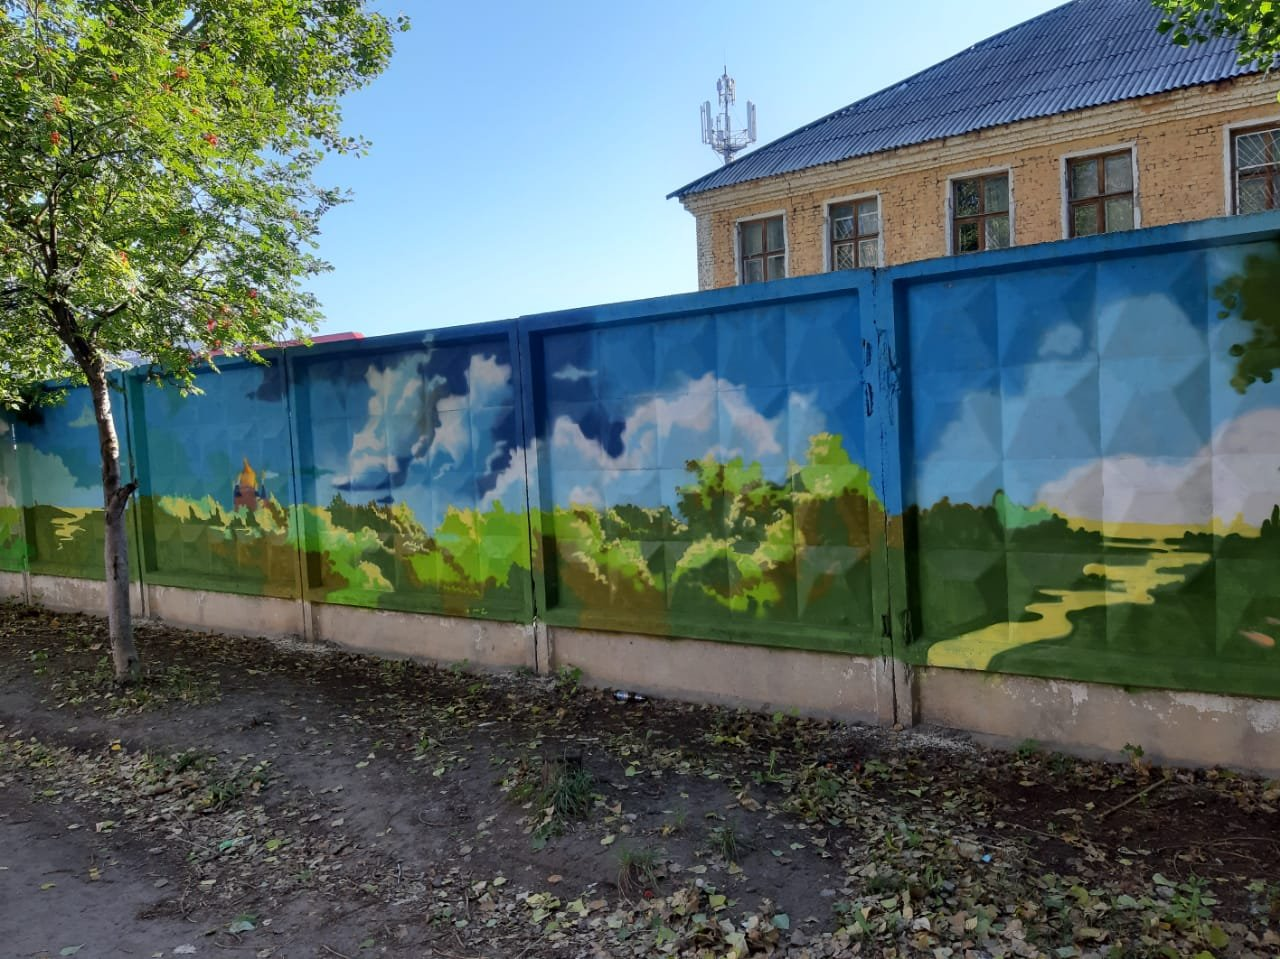graphite: (880, 264, 1274, 701), (530, 317, 881, 656), (286, 337, 532, 630), (116, 350, 303, 599), (24, 383, 108, 575)
